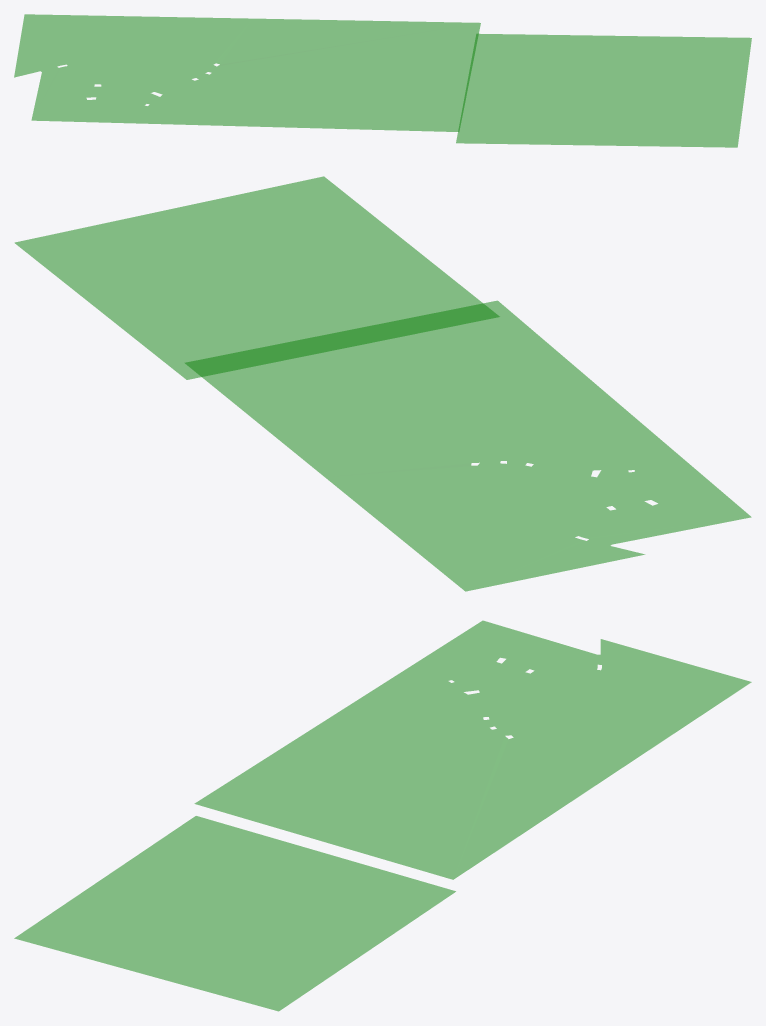
Rendered from water.obj.
The picture shows the model from 3 angles, top to bottom: view 1: azimuth 30°, elevation 25°; view 2: azimuth 150°, elevation 25°; view 3: azimuth 270°, elevation 25°; orthographic projection. The views are drawn at different scales.
Size of the model in its own units: 2012 by 33.51 by 1662.
